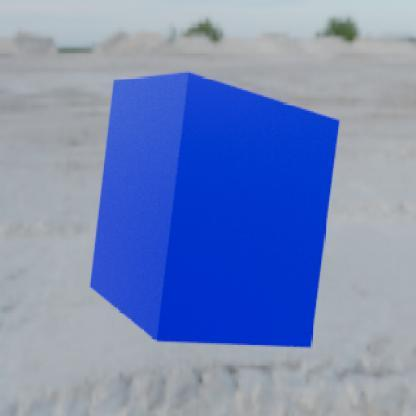cube: (88, 70, 340, 348)
